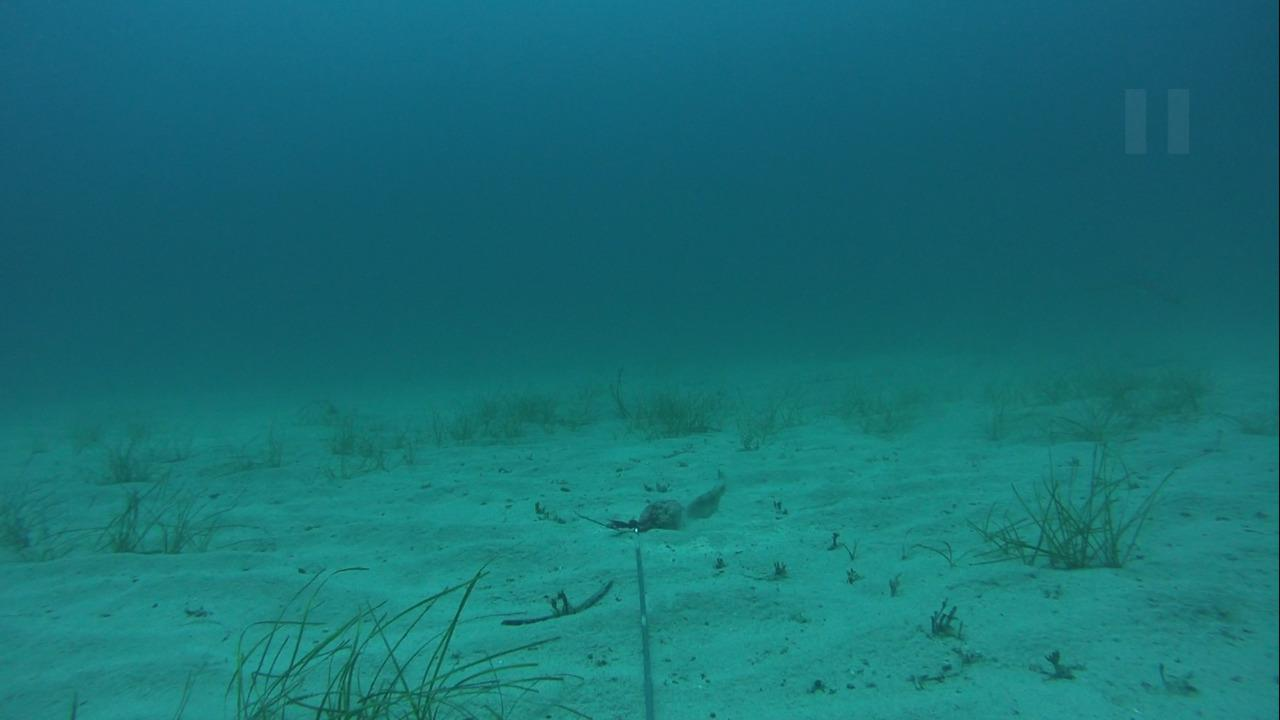raor: (684, 478, 740, 523)
